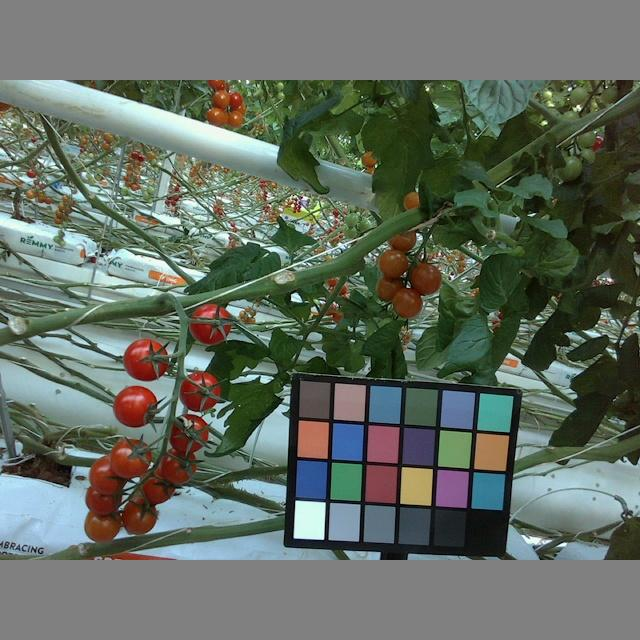pink: (83, 506, 121, 545), (410, 261, 447, 297), (378, 245, 409, 277), (390, 286, 422, 317), (374, 275, 407, 301), (203, 106, 230, 128), (209, 86, 231, 107)
red: (121, 337, 170, 380), (186, 302, 234, 344), (112, 386, 159, 427), (108, 437, 152, 479), (167, 413, 209, 455), (180, 371, 222, 412), (88, 456, 132, 494), (140, 469, 177, 509), (121, 498, 159, 536), (163, 448, 198, 488), (83, 482, 121, 513)
